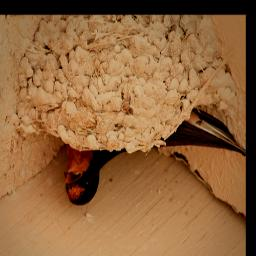Swallow: (62, 97, 245, 208)
